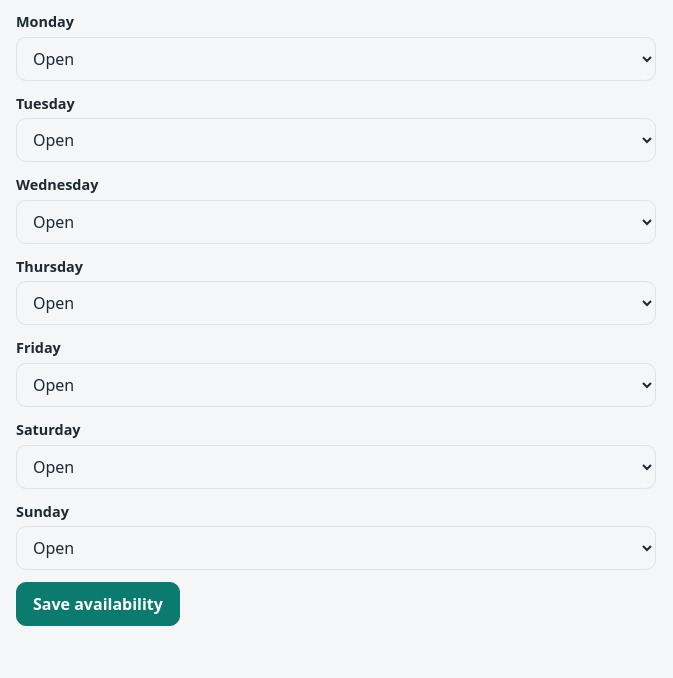
AvailabilityEditor › clears the saved message when you change a day
This screenshot has width=673, height=678.
Click the button "Save availability": (98,604) [16, 582, 180, 626]
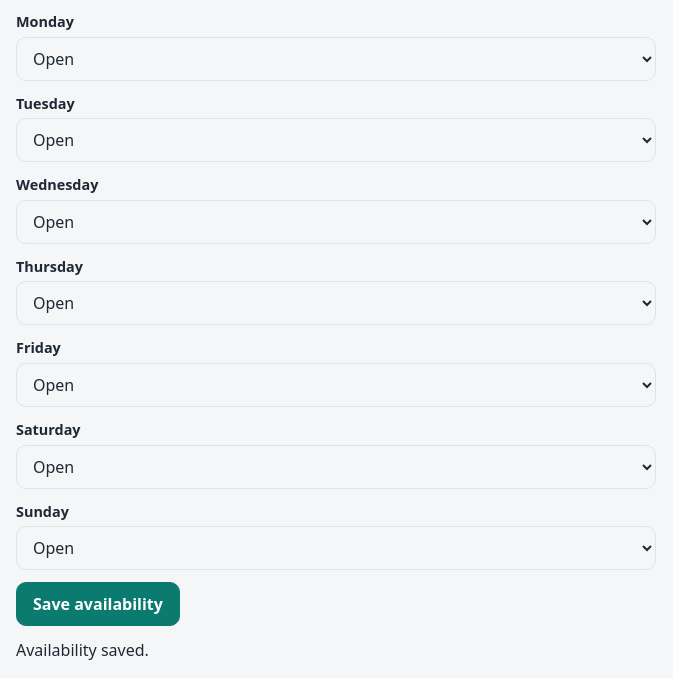
Now the text "Availability saved." is shown, box [16, 639, 149, 661]
Select "Off" in the dropdown labelled "Monday": (336,59) [16, 37, 656, 81]
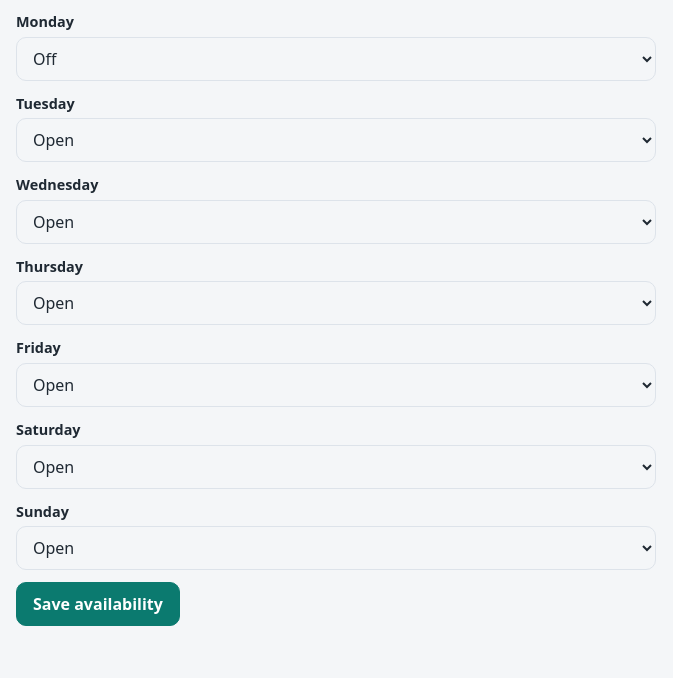
Now the text "Availability saved." is gone
